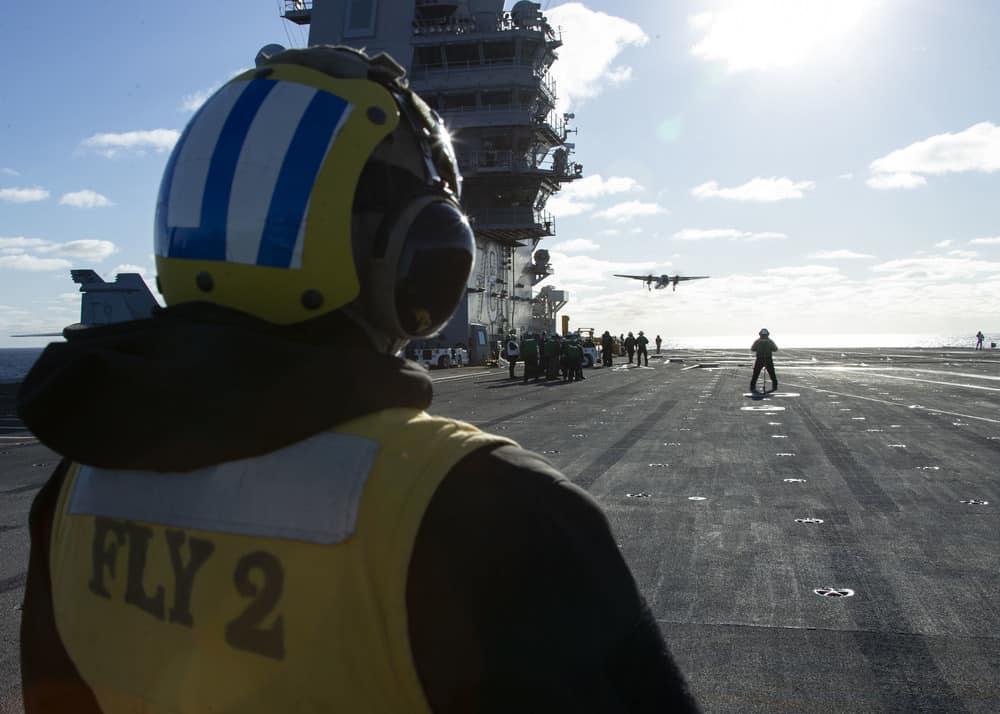E2: (612, 269, 712, 293)
